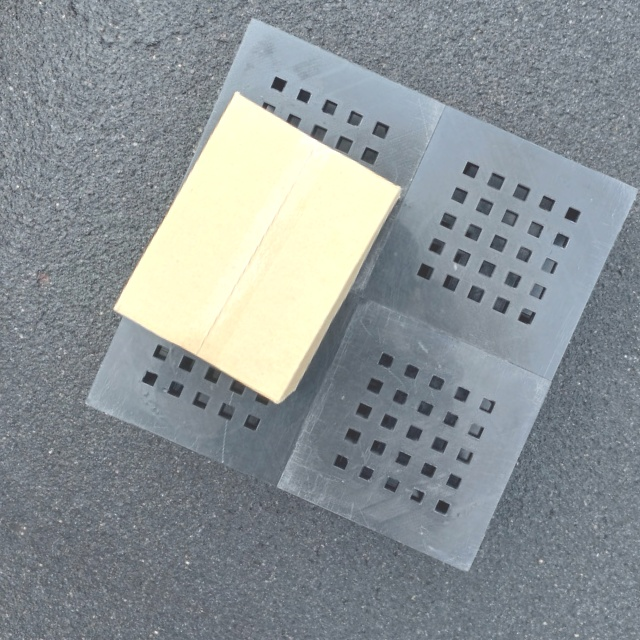box: (108, 87, 407, 409)
pallet: (78, 10, 640, 578)
